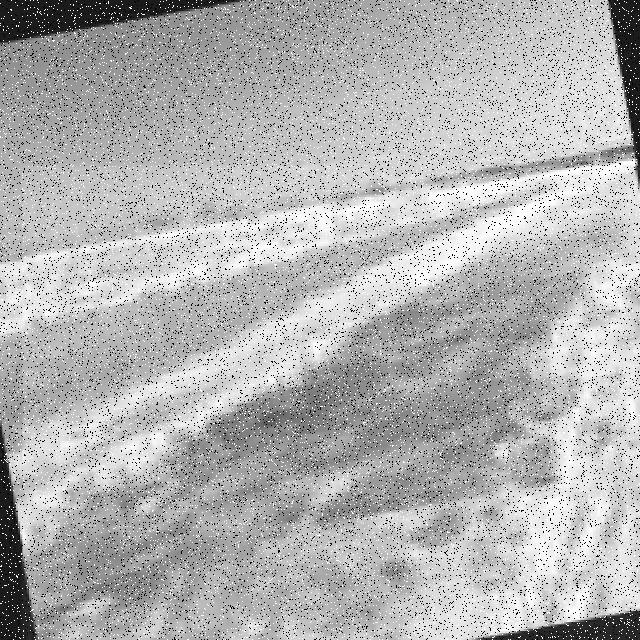ice-road: (24, 166, 640, 640)
